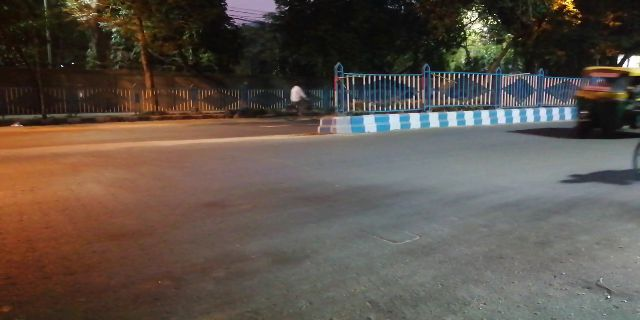Autorickshaw: (564, 66, 636, 134)
Cycle: (278, 80, 324, 123)
